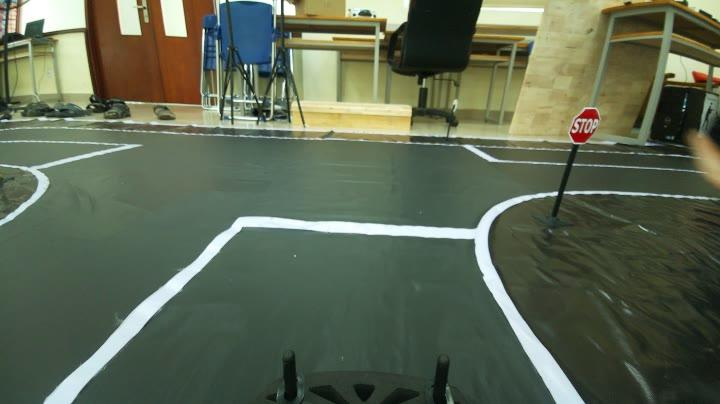stop: (568, 98, 601, 144)
